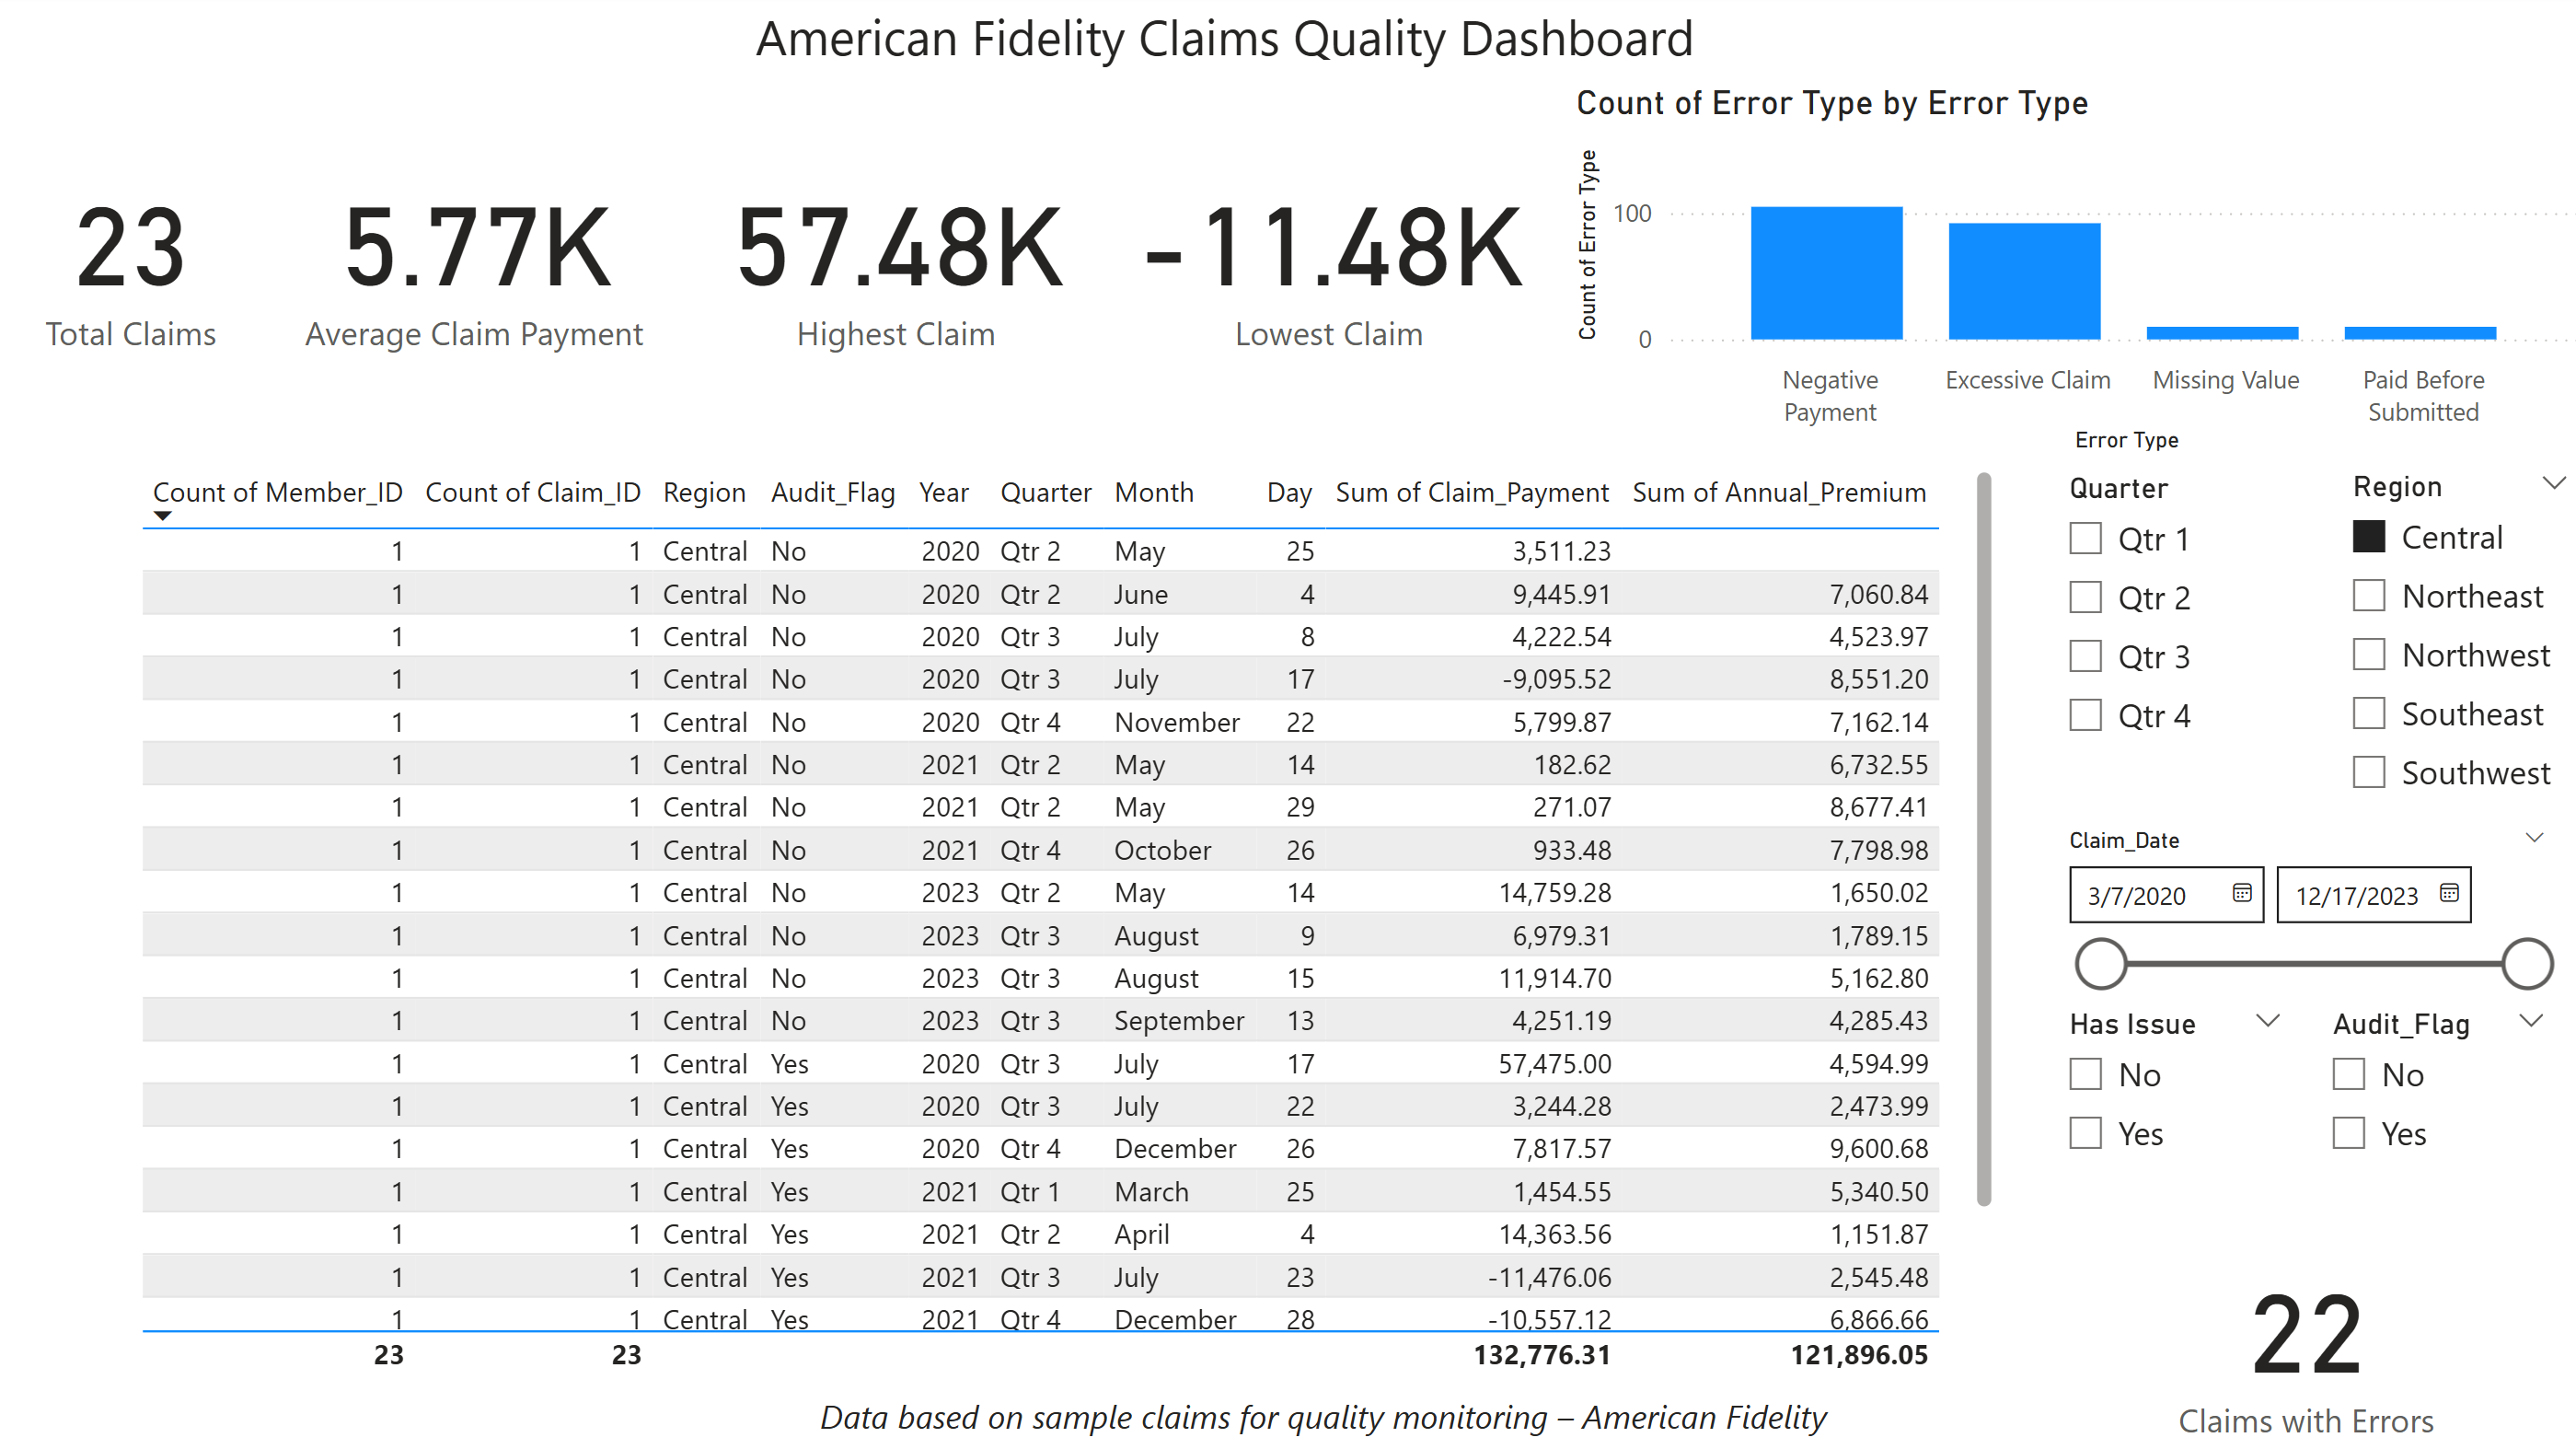

The dashboard page shown, as its layout file describes it:
{"tool":"powerbi","page":{"name":"Page 1","canvas":[1280,720],"ordinal":0},"visuals":[{"type":"card","fields":{"Values":["CountNonNull(claims_data.Claim_ID)"]},"box":[-1,58.6,139.8,139.8],"z":0},{"type":"card","fields":{"Values":["Max(claims_data.Claim_Payment)"]},"box":[337.6,58.6,215.6,139.8],"z":1000},{"type":"card","fields":{"Values":["Avg(claims_data.Claim_Payment)"]},"box":[138.8,58.6,198.7,139.8],"z":2000},{"type":"card","fields":{"Values":["Min(claims_data.Claim_Payment)"]},"box":[553.1,58.6,210.5,139.8],"z":3000},{"type":"clusteredColumnChart","fields":{"Category":["ErrorCounts.Error Type"],"Y":["CountNonNull(ErrorCounts.Error Type)"]},"box":[775.2,44.1,504.8,186.2],"z":4000},{"type":"tableEx","fields":{"Values":["CountNonNull(claims_data.Member_ID)","CountNonNull(claims_data.Claim_ID)","claims_data.Region","claims_data.Audit_Flag","claims_data.Claim_Date.Variation.Date Hierarchy.Year","claims_data.Claim_Date.Variation.Date Hierarchy.Quarter","claims_data.Claim_Date.Variation.Date Hierarchy.Month","claims_data.Claim_Date.Variation.Date Hierarchy.Day","Sum(claims_data.Claim_Payment)","Sum(claims_data.Annual_Premium)"]},"box":[69,230.3,921.4,453.8],"z":5000},{"type":"slicer","fields":{"Values":["claims_data.Claim_Date"]},"box":[1009.7,405.5,259.3,92.4],"z":6000},{"type":"slicer","fields":{"Values":["claims_data.Region"]},"box":[1149,229,131,177.9],"z":7000},{"type":"slicer","fields":{"Values":["claims_data.Audit_Flag"]},"box":[1139.3,493.8,129.7,97.9],"z":8000},{"type":"slicer","fields":{"Values":["claims_data.Claim_Date.Variation.Date Hierarchy.Quarter"]},"box":[1009.7,230.3,129.7,166.9],"z":9000},{"type":"slicer","fields":{"Values":["claims_data.Has_Issue_Cleaned"]},"box":[1009.7,493.8,129.7,97.9],"z":10000},{"type":"card","fields":{"Values":["CountNonNull(claims_data.Claim_ID)"]},"box":[1067.6,606.9,143.4,113.1],"z":11000},{"type":"textbox","box":[371,0,481.4,44.1],"z":12000},{"type":"textbox","box":[402.8,684.1,518.6,35.9],"z":13000}]}

Visuals, with their boxes in screenshot pixels (x1, y1, x2, y2), scaled from the page's 1280x720 canvas onto the 2576x1449 screenshot:
card - CountNonNull(claims_data.Claim_ID): box=[0, 118, 280, 400]
card - Max(claims_data.Claim_Payment): box=[679, 118, 1114, 400]
card - Avg(claims_data.Claim_Payment): box=[280, 118, 679, 400]
card - Min(claims_data.Claim_Payment): box=[1113, 118, 1537, 400]
clusteredColumnChart - ErrorCounts.Error Type x CountNonNull(ErrorCounts.Error Type): box=[1560, 88, 2575, 463]
tableEx - CountNonNull(claims_data.Member_ID) x CountNonNull(claims_data.Claim_ID): box=[139, 463, 1993, 1377]
slicer - claims_data.Claim_Date: box=[2032, 816, 2554, 1002]
slicer - claims_data.Region: box=[2313, 461, 2575, 819]
slicer - claims_data.Audit_Flag: box=[2293, 994, 2554, 1191]
slicer - claims_data.Claim_Date.Variation.Date Hierarchy.Quarter: box=[2032, 463, 2293, 799]
slicer - claims_data.Has_Issue_Cleaned: box=[2032, 994, 2293, 1191]
card - CountNonNull(claims_data.Claim_ID): box=[2149, 1222, 2437, 1448]
textbox: box=[746, 0, 1715, 88]
textbox: box=[811, 1377, 1854, 1448]
